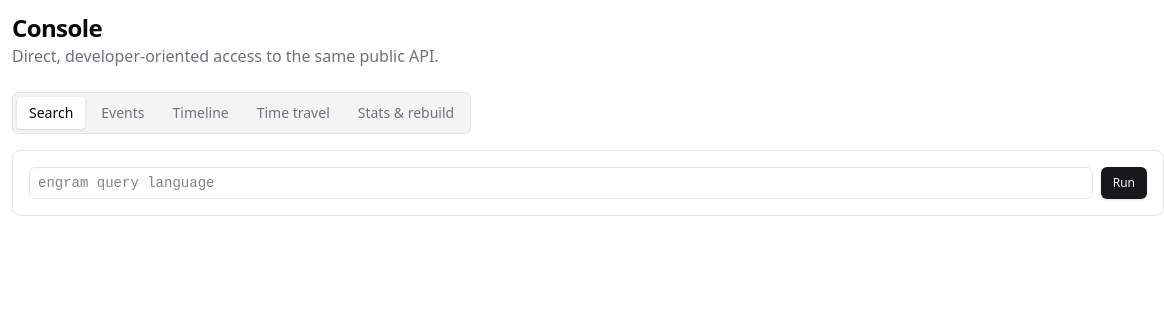
Test case: search tab surfaces a malformed query as a 422 problem, not a silent failure
Step 1. Type "confidence>>0.8" into the field with placeholder "engram query language" → (561, 183), box [29,167,1093,199]
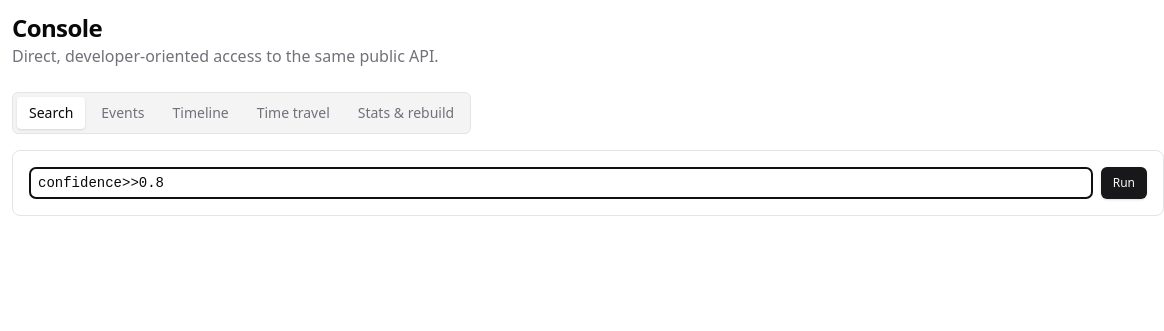
Step 2. Click the button "Run" → (1124, 183), box [1101,167,1147,199]
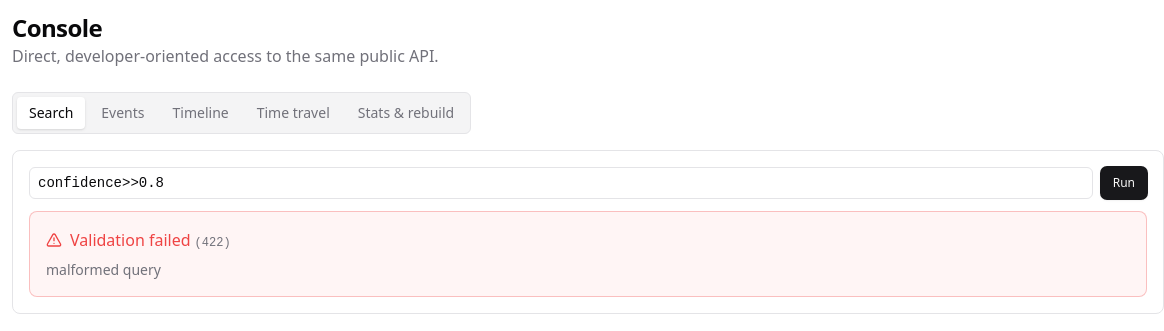
expect the text "Validation failed" is shown: met, box [70,229,191,251]
